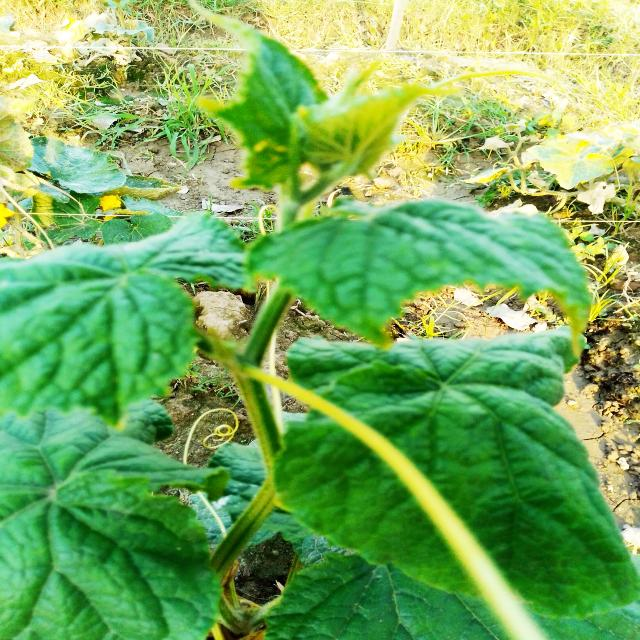Fresh-Leaf: (275, 329, 640, 618)
